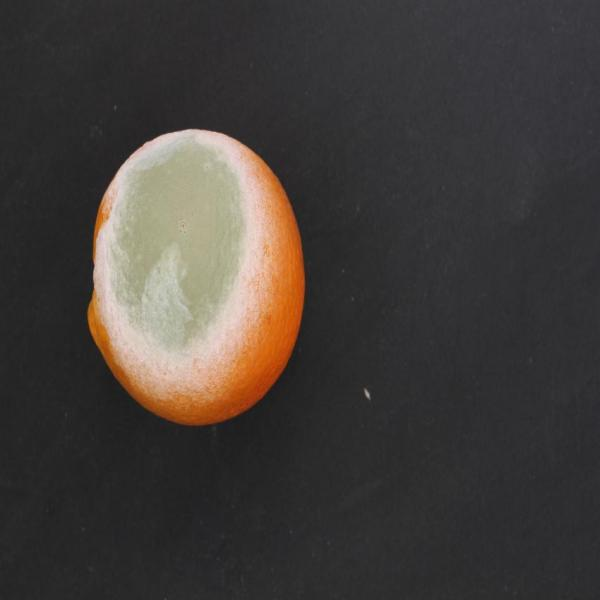Moho verde: (74, 110, 326, 434)
